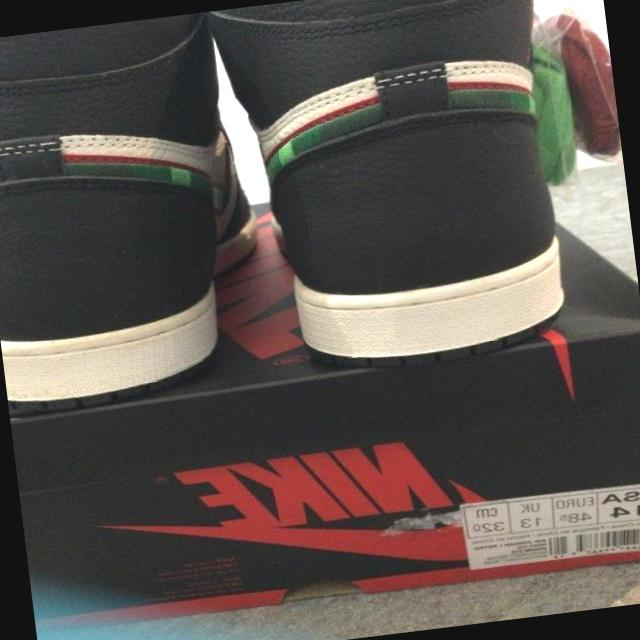nike_original_jordan: (248, 0, 578, 385), (0, 9, 267, 412)
